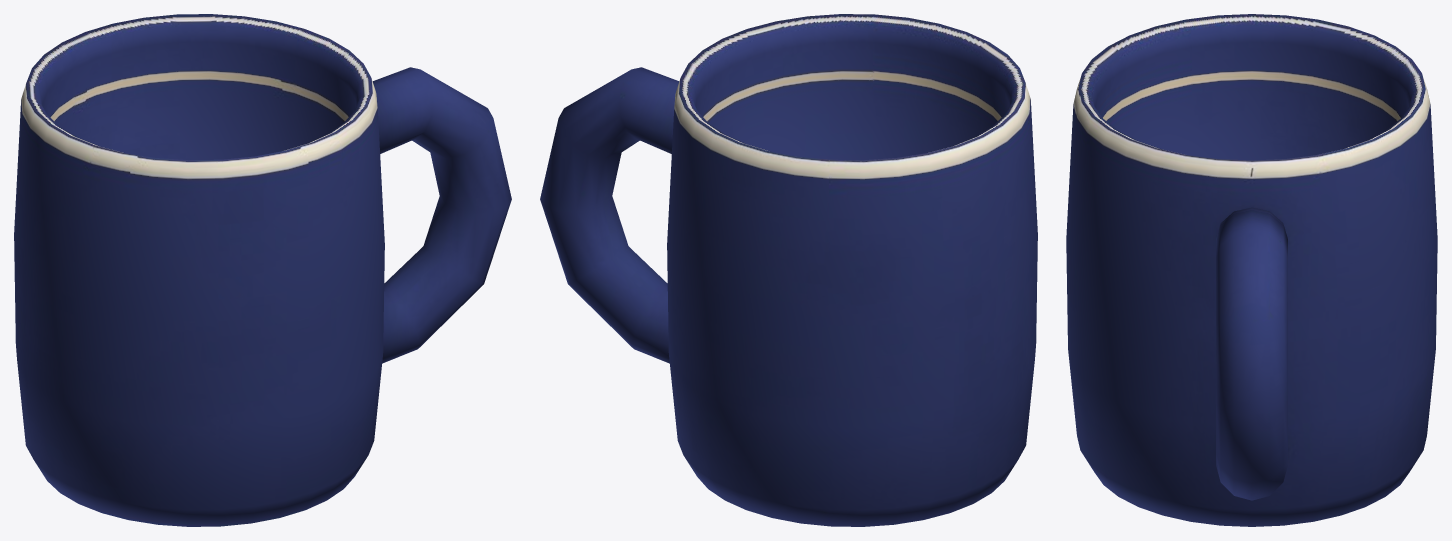
The model's file is mug_milk_b2.glb.
3 renders of one model, left to right at view 1: azimuth 30°, elevation 25°; view 2: azimuth 150°, elevation 25°; view 3: azimuth 270°, elevation 25°, orthographic.
Parts seen in each view (by area): view 1: prop_mug_milk_b2_felt; view 2: prop_mug_milk_b2_felt; view 3: prop_mug_milk_b2_felt.
Part boxes in pixels (left/top/right/bottom): prop_mug_milk_b2_felt: left=14, top=14, right=511, bottom=526; prop_mug_milk_b2_felt: left=540, top=14, right=1037, bottom=526; prop_mug_milk_b2_felt: left=1066, top=14, right=1437, bottom=526.
Size of the model in its own units: 0.1907 by 0.1447 by 0.131.
1 material, 1 textured.
